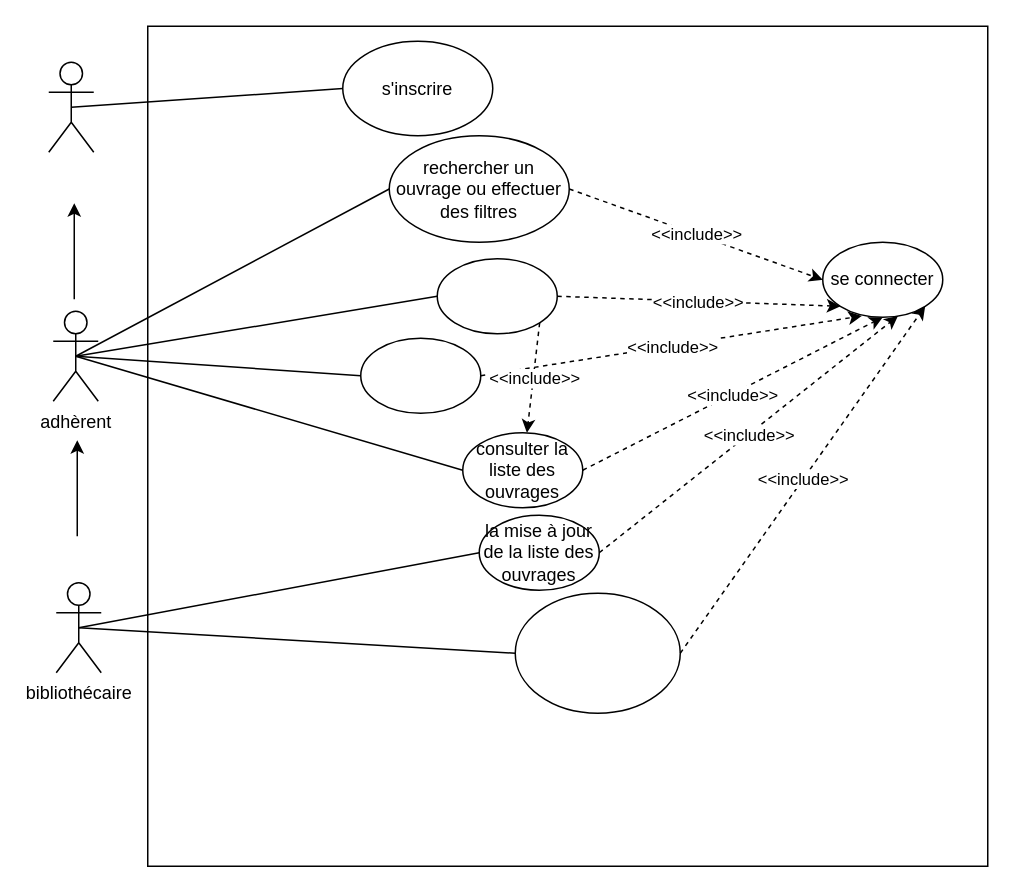
Some shapes in this 1014 by 893 pixel diagram are drawn without their labels. The box of each missing label's shape, as (x1, y1, x2, y2) in pixels:
l’enregistrement des opérations d’emprunt et de retour: (514, 592, 680, 713)
modifier son profil: (359, 337, 481, 413)
reserver: (436, 257, 557, 334)
visiteur: (47, 61, 94, 152)
